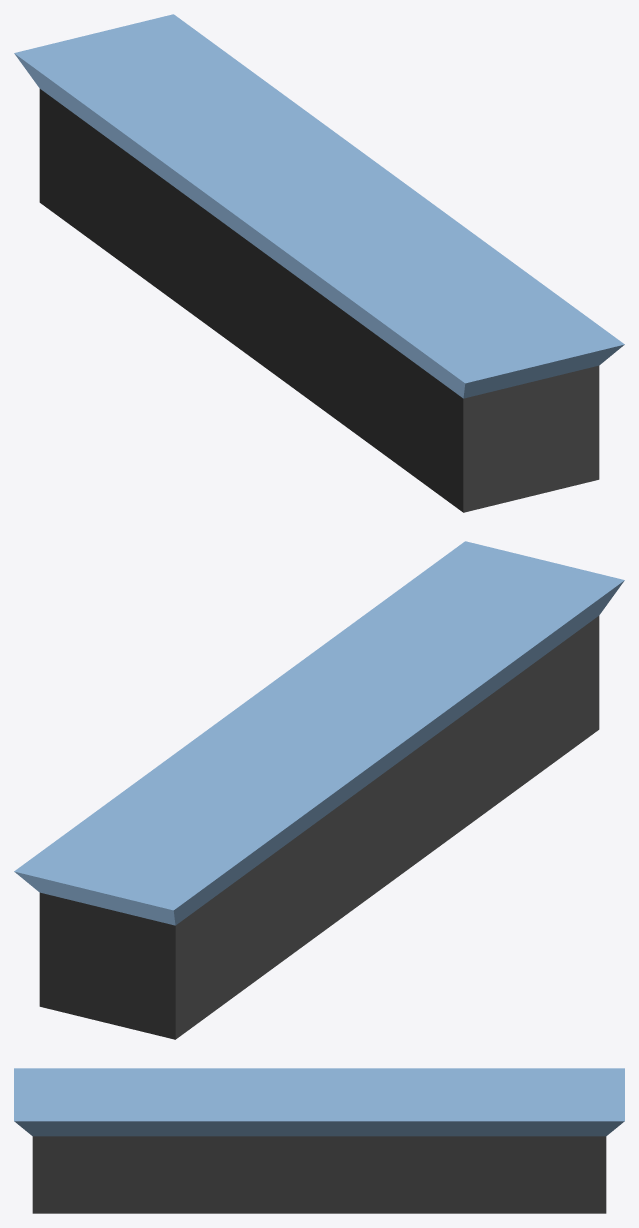
File: FactoryGround.fbx
The picture shows the model from 3 angles, top to bottom: view 1: azimuth 30°, elevation 25°; view 2: azimuth 150°, elevation 25°; view 3: azimuth 270°, elevation 25°; orthographic projection. The views are drawn at different scales.
Visible parts, largest first — view 1: Cube; view 2: Cube; view 3: Cube.
Boxes of the visible parts, <box> form: Cube: <box>14,14,624,512</box>; Cube: <box>14,541,624,1039</box>; Cube: <box>14,1068,624,1213</box>.
Size of the model in its own units: 235 by 200 by 1150.
